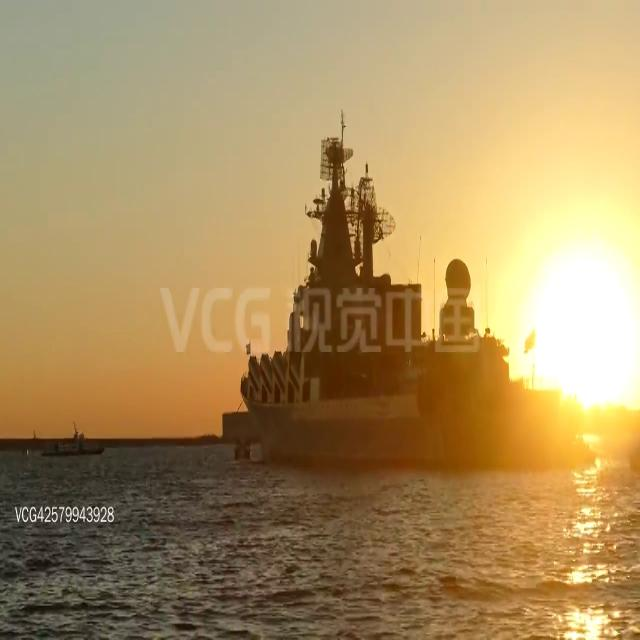cargoship: (39, 426, 105, 458)
navalvessels: (242, 123, 590, 470)
